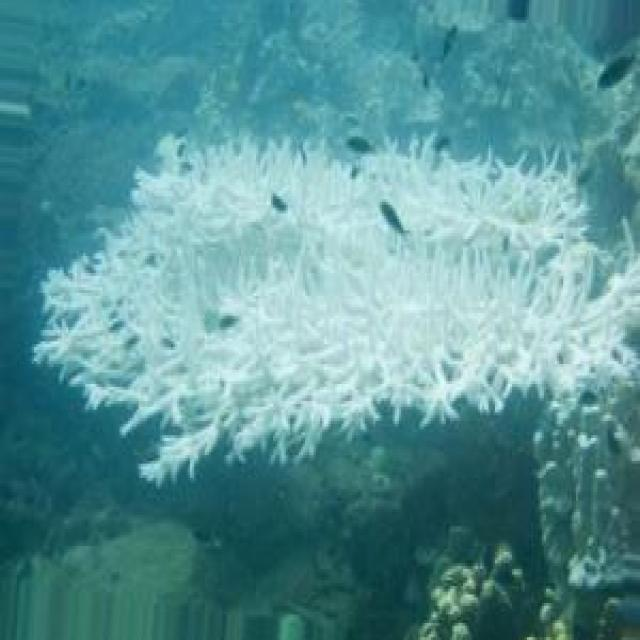bleached coral: (35, 138, 640, 482)
